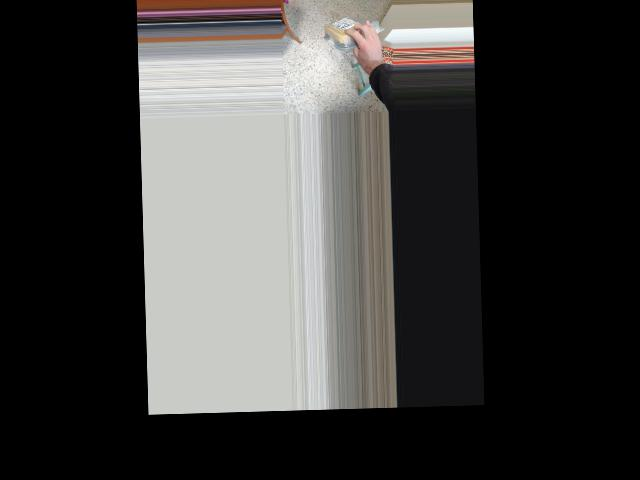cheese: (322, 15, 367, 46)
